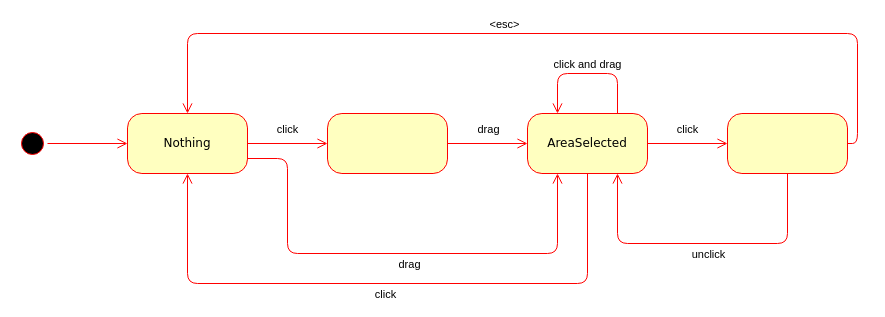
This 885x317 diagram has some shape labels left out. Each missing label, with the box of its shape:
Moving: (726, 112, 848, 174)
StartSelected: (326, 112, 448, 174)
